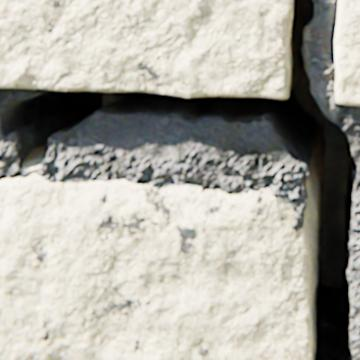brick: (0, 173, 312, 359), (0, 0, 292, 98), (334, 0, 359, 105)
crack: (1, 0, 358, 359)
